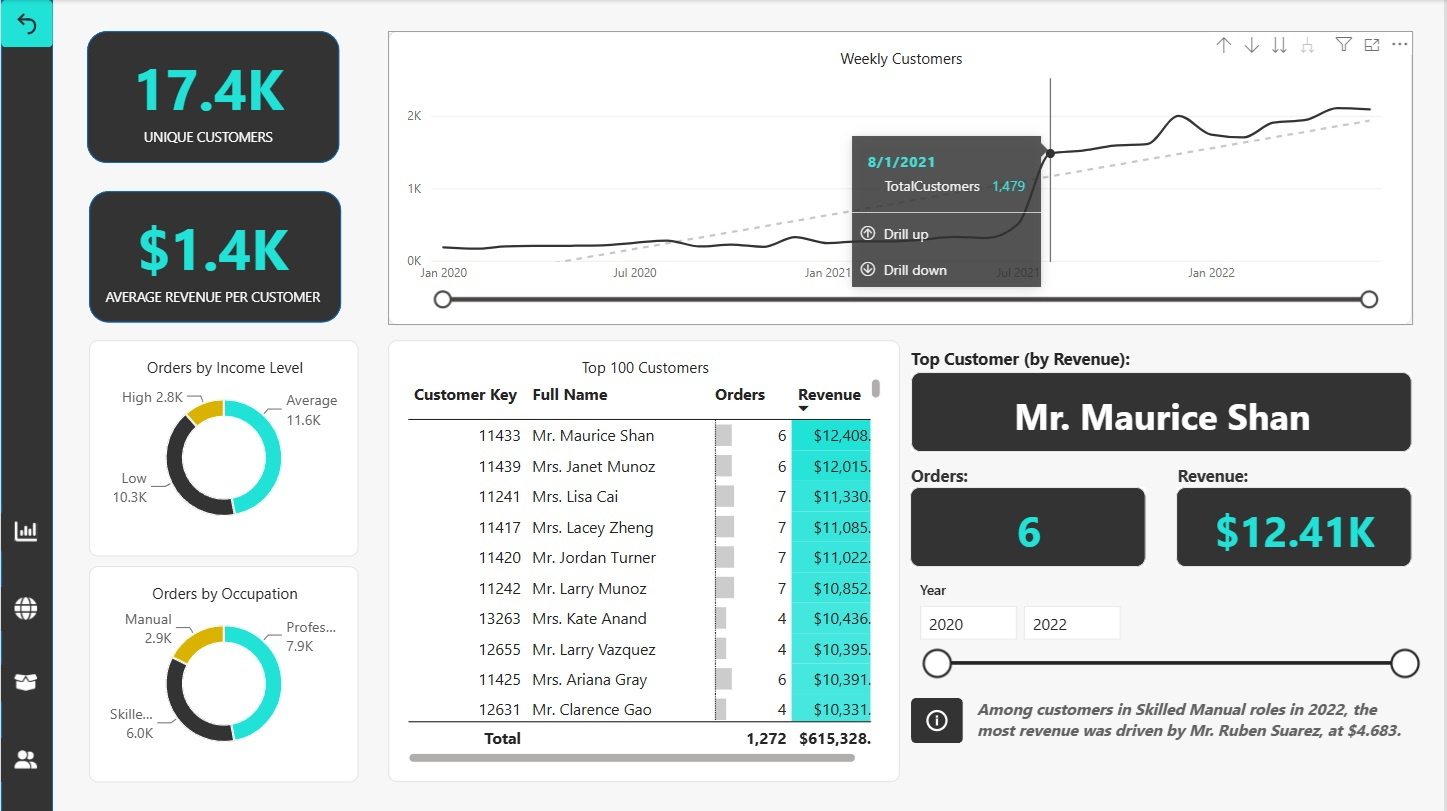

The dashboard page shown, as its layout file describes it:
{"tool":"powerbi","page":{"name":"Customers","canvas":[1280,720],"ordinal":3},"visuals":[{"type":"shape","title":"Left Nav Background","box":[0,0,46.2,720.1],"z":0},{"type":"group","id":"g1","title":"KPI Backgrounds","box":[75.9,27.2,225.8,259],"z":1000},{"type":"actionButton","box":[0,452.2,44.3,39],"z":1000,"group":"g2"},{"type":"lineChart","title":"Weekly Customers","fields":{"Category":["Calendar Lookup.Date Hierarchy.Start of Year","Calendar Lookup.Date Hierarchy.Start of Month","Calendar Lookup.Date Hierarchy.Start of Week","Calendar Lookup.Date Hierarchy.Date"],"Y":["Measure Table.TotalCustomers"]},"box":[343.3,27.2,908.4,260.7],"z":2000},{"type":"actionButton","box":[0,654.4,44.3,39],"z":2000,"group":"g2"},{"type":"cardVisual","fields":{"Data":["Measure Table.TotalCustomers"]},"box":[68.1,27.2,231.5,116.7],"z":3000},{"type":"shape","box":[78,169.5,223.7,116.7],"z":3000,"group":"g1"},{"type":"actionButton","box":[0,586.5,44.3,39],"z":3000,"group":"g2"},{"type":"shape","box":[75.9,27.2,223.9,117.1],"z":4000,"group":"g1"},{"type":"tableEx","title":"Top 100 Customers","fields":{"Values":["Customer Lookup.CustomerKey","Customer Lookup.Full Name","Measure Table.TotalOrders","Measure Table.TotalRevenue"]},"box":[343.3,301.5,454.2,392],"z":4000},{"type":"actionButton","box":[0,520.1,44.3,39],"z":4000,"group":"g2"},{"type":"cardVisual","fields":{"Data":["Measure Table.Avg Rev Per Customer"]},"box":[75.9,169.2,223.7,116.7],"z":5000},{"type":"cardVisual","fields":{"Data":["Measure Table.Full Name CD"]},"box":[807,329.7,444.5,72],"z":6000},{"type":"cardVisual","fields":{"Data":["Measure Table.Total Revenue CD"]},"box":[1041.7,431.9,209.1,72],"z":7000},{"type":"cardVisual","fields":{"Data":["Measure Table.Total Orders CD"]},"box":[806.3,431.9,209.1,72],"z":8000},{"type":"donutChart","title":"Orders by Income Level","fields":{"Category":["Customer Lookup.Income Level"],"Y":["Measure Table.TotalOrders"]},"box":[77.8,301.5,239.3,191.6],"z":9000},{"type":"donutChart","title":"Orders by Occupation","fields":{"Category":["Customer Lookup.Occupation"],"Y":["Measure Table.TotalOrders"]},"box":[77.8,501.9,239.3,191.6],"z":10000},{"type":"textbox","box":[807.3,307.4,209.1,22.4],"z":11000},{"type":"textbox","box":[807.3,411.4,444.5,40.9],"z":12000},{"type":"slicer","fields":{"Values":["Calendar Lookup.Year"]},"box":[807.3,514.5,454.2,104.1],"z":13000},{"type":"actionButton","box":[807,619,46,40],"z":14000},{"type":"textbox","box":[865,619,386,49],"z":15000},{"type":"actionButton","box":[0,0,46,42],"z":16000},{"type":"group","id":"g2","title":"Group 1","box":[0,452.2,44.3,241.2],"z":17000}]}

Visuals, with their boxes on the page's 1280x720 design canvas (x1, y1, x2, y2). These are canvas units, not pixel positions in the 1447x811 screenshot, which may show the page scaled, cropped or inside an application window:
"Left Nav Background" shape: bbox(0, 0, 46, 720)
"KPI Backgrounds" group: bbox(76, 27, 302, 286)
actionButton: bbox(0, 452, 44, 491)
"Weekly Customers" lineChart: bbox(343, 27, 1252, 288)
actionButton: bbox(0, 654, 44, 693)
cardVisual - Measure Table.TotalCustomers: bbox(68, 27, 300, 144)
shape: bbox(78, 170, 302, 286)
actionButton: bbox(0, 586, 44, 626)
shape: bbox(76, 27, 300, 144)
"Top 100 Customers" tableEx: bbox(343, 302, 798, 694)
actionButton: bbox(0, 520, 44, 559)
cardVisual - Measure Table.Avg Rev Per Customer: bbox(76, 169, 300, 286)
cardVisual - Measure Table.Full Name CD: bbox(807, 330, 1252, 402)
cardVisual - Measure Table.Total Revenue CD: bbox(1042, 432, 1251, 504)
cardVisual - Measure Table.Total Orders CD: bbox(806, 432, 1015, 504)
"Orders by Income Level" donutChart: bbox(78, 302, 317, 493)
"Orders by Occupation" donutChart: bbox(78, 502, 317, 694)
textbox: bbox(807, 307, 1016, 330)
textbox: bbox(807, 411, 1252, 452)
slicer - Calendar Lookup.Year: bbox(807, 514, 1262, 619)
actionButton: bbox(807, 619, 853, 659)
textbox: bbox(865, 619, 1251, 668)
actionButton: bbox(0, 0, 46, 42)
"Group 1" group: bbox(0, 452, 44, 693)
